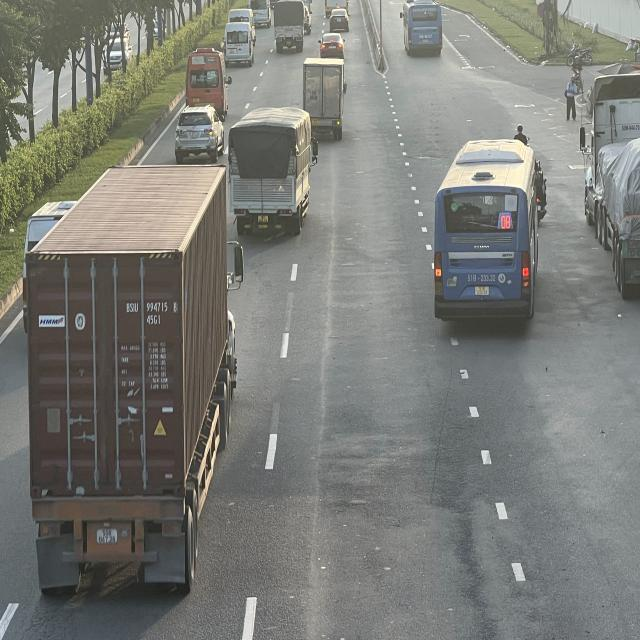car: (177, 105, 229, 167), (319, 33, 345, 58), (328, 8, 350, 31)
coach: (436, 134, 550, 322), (403, 0, 443, 56)
container: (24, 160, 243, 598), (575, 70, 636, 302)
truck: (229, 105, 317, 234), (300, 56, 344, 138), (273, 0, 305, 52)
van: (185, 48, 233, 114), (225, 21, 258, 68)
